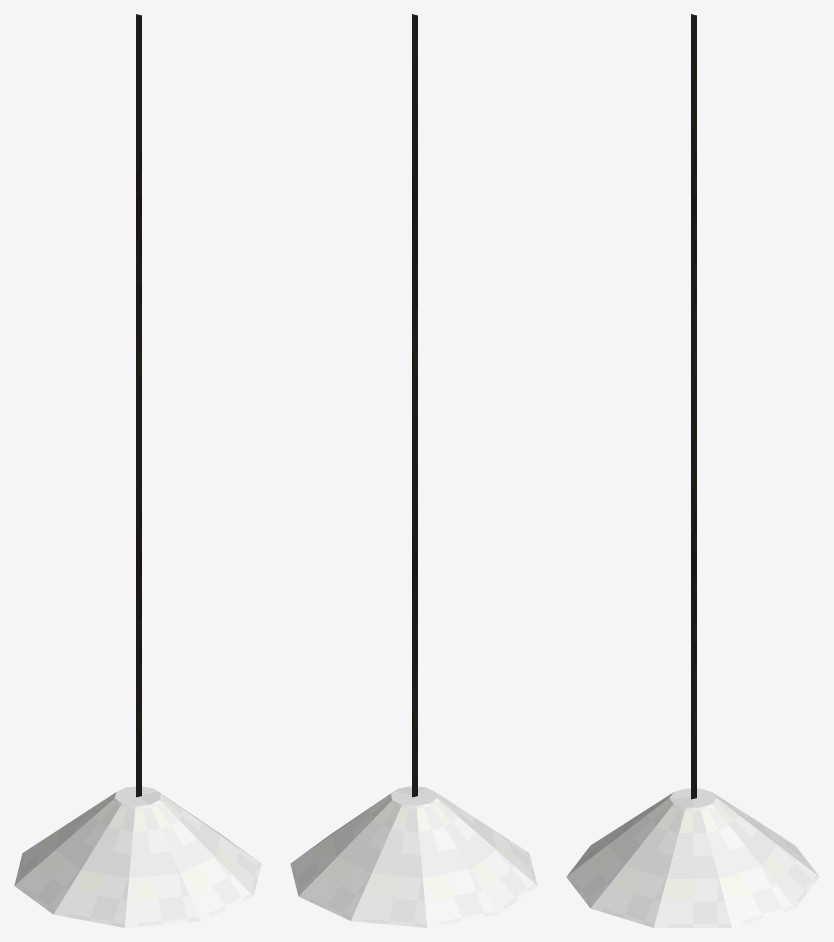
The model's file is foco_colgante.obj.
3 views of the same model, side by side, from view 1: azimuth 30°, elevation 25°; view 2: azimuth 150°, elevation 25°; view 3: azimuth 270°, elevation 25° (orthographic).
Parts seen in each view (by area): view 1: foco_colgante; view 2: foco_colgante; view 3: foco_colgante.
Part boxes in pixels (x1,y1,x2,y2): foco_colgante: (14,14,261,927); foco_colgante: (290,14,537,927); foco_colgante: (566,14,819,927).
Size of the model in its own units: 0.6087 by 2.47 by 0.64.
Materials: 3 (3 with a texture image).
